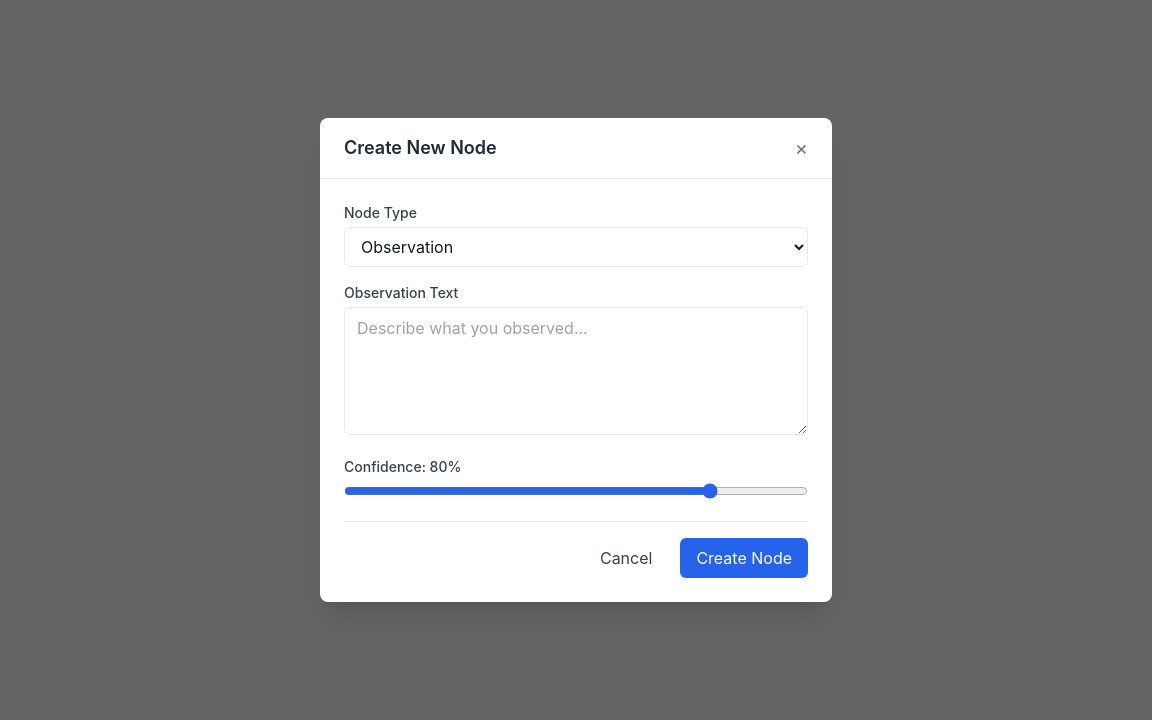
Test case: CreateNodeModal › switches to hypothesis form when hypothesis is selected
Select "Hypothesis" in the dropdown: (576, 247) x1=344 y1=227 x2=808 y2=267
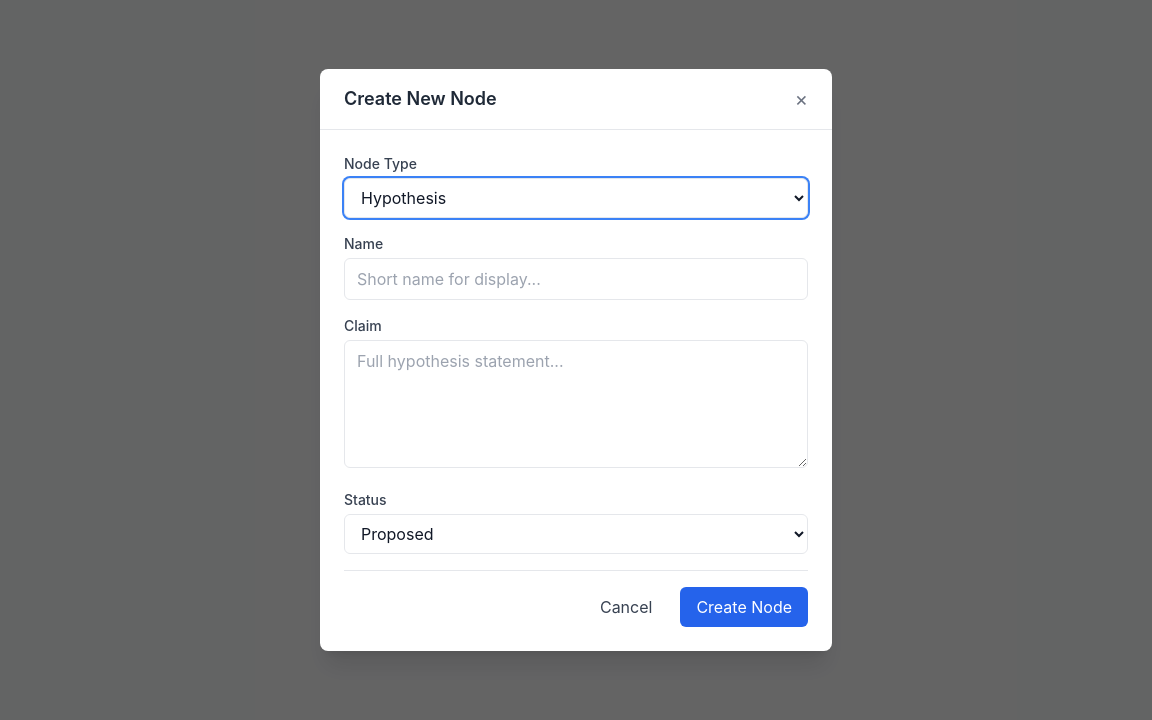
Now the field with placeholder "Short name for display..." is shown, box x1=344 y1=258 x2=808 y2=300
Now the text box with placeholder "Full hypothesis statement..." is shown, box x1=344 y1=340 x2=808 y2=468
